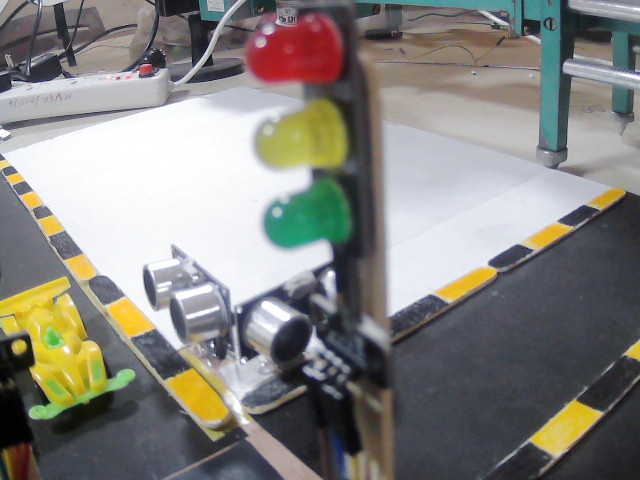car: (0, 285, 121, 421)
traffic_light: (246, 17, 349, 247)
uno_breadboard: (143, 250, 223, 377), (246, 281, 325, 373)
